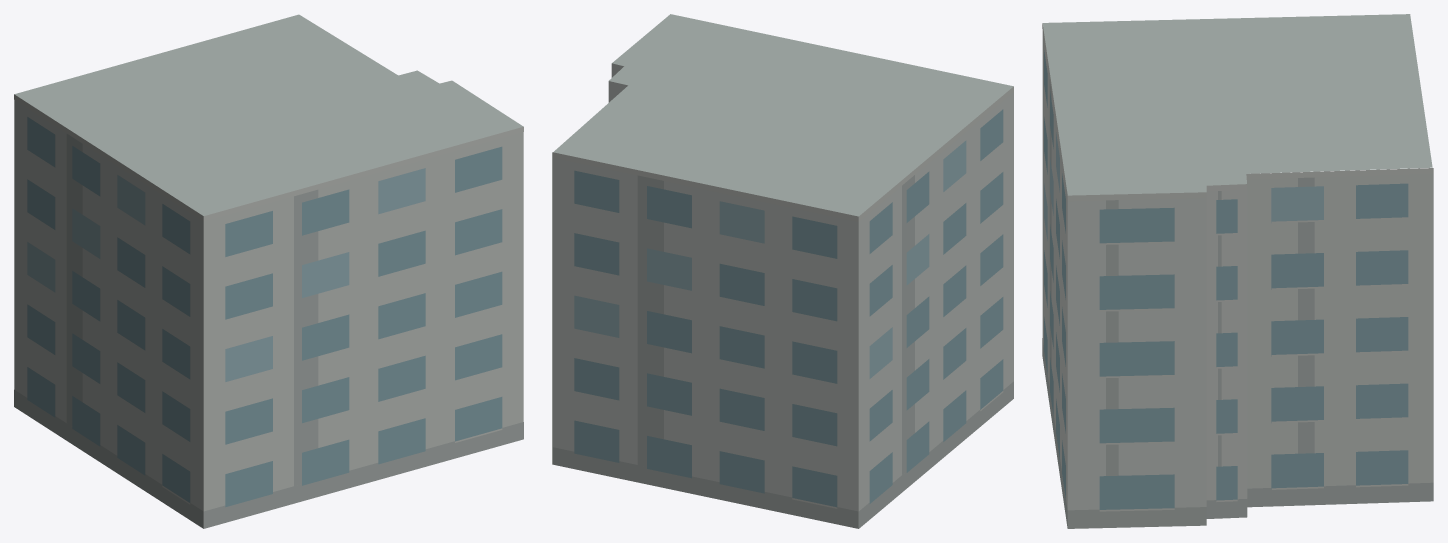
Rendered from survey-upis-32785230.glb.
3 views of the same model, side by side, from view 1: azimuth 30°, elevation 25°; view 2: azimuth 150°, elevation 25°; view 3: azimuth 270°, elevation 25° (orthographic). The views are drawn at different scales.
Parts seen in each view (by area): view 1: survey-upis-32785230.tmp; view 2: survey-upis-32785230.tmp; view 3: survey-upis-32785230.tmp.
Part boxes in pixels (x1=…): survey-upis-32785230.tmp: x1=14, y1=14, x2=523, y2=528; survey-upis-32785230.tmp: x1=552, y1=14, x2=1013, y2=528; survey-upis-32785230.tmp: x1=1042, y1=14, x2=1433, y2=528.
Size of the model in its own units: 16.6 by 14.2 by 15.1.
